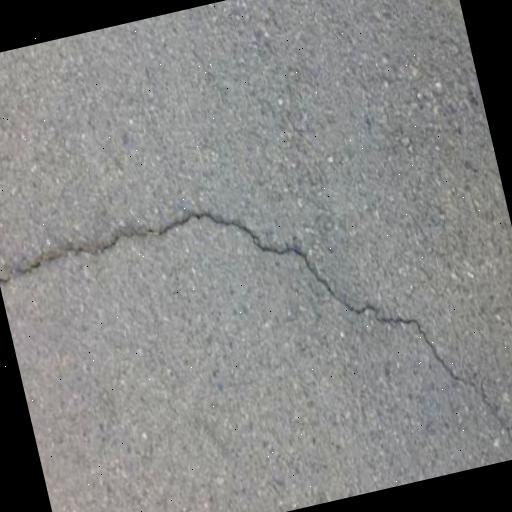spalling: (3, 184, 512, 454)
